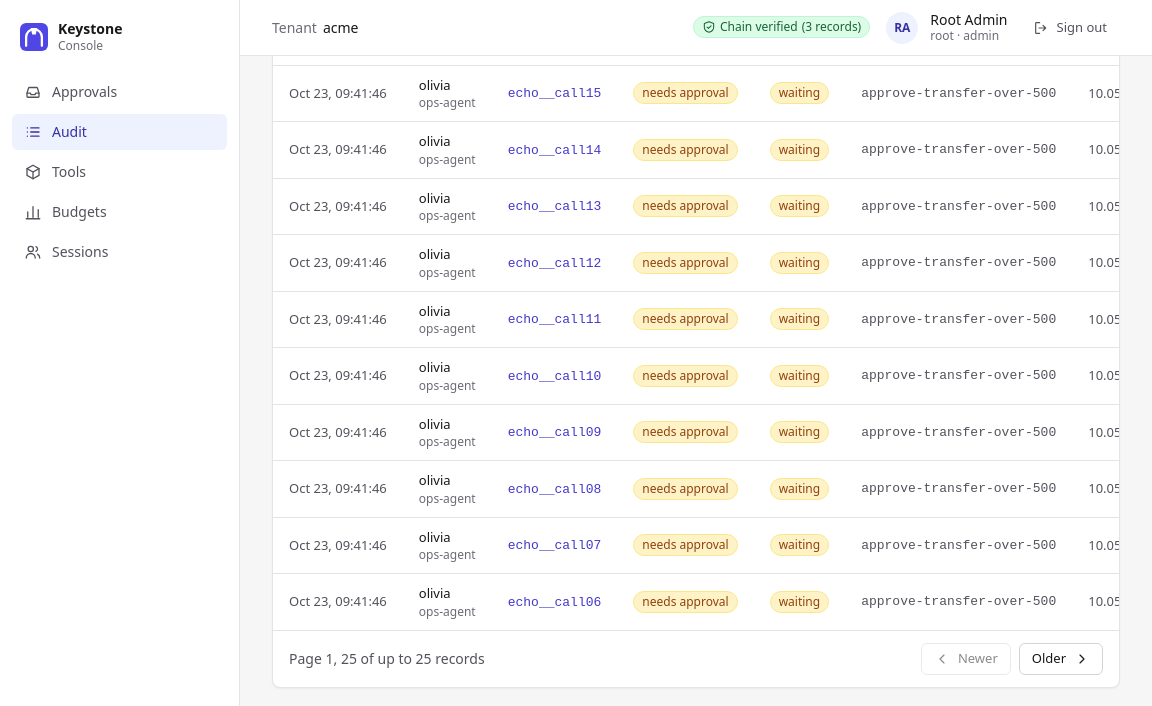
Test: pages toward older records and back
This screenshot has width=1152, height=706.
(page scrolled)
Expected: the button "Newer" is disabled, [921,642,1011,674]
Step 1. Click the button "Older" → [1061, 658], box [1019,642,1103,674]
(page scrolled)
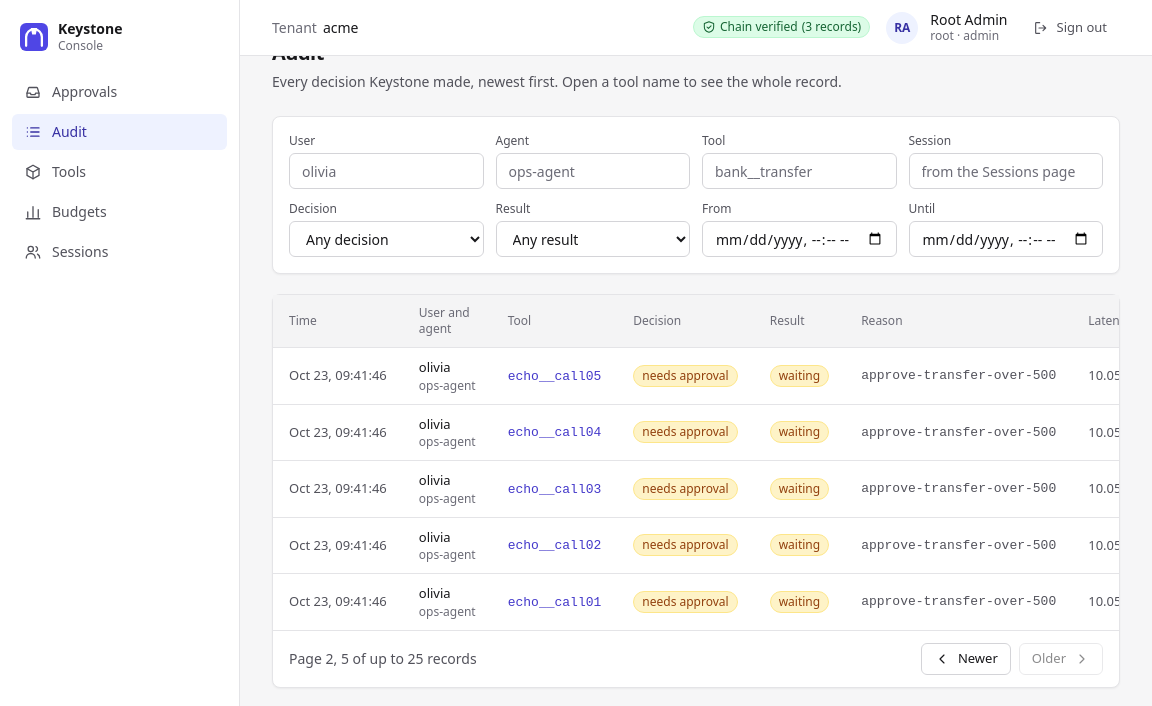
Now the button "echo__call05" is shown, box [508,366,601,386]
Now the button "Older" is disabled, box [1019,642,1103,674]
Step 2. Click the button "Newer" → [966, 658], box [921,642,1011,674]
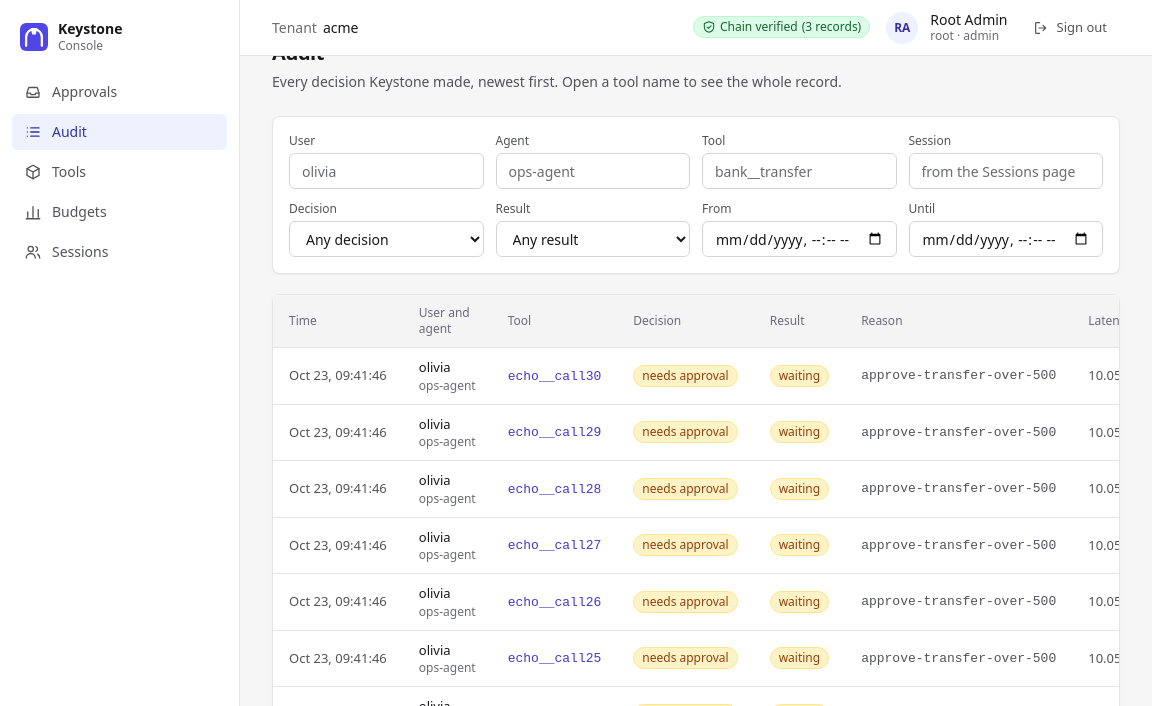
Now the button "echo__call30" is shown, box [508,366,601,386]
